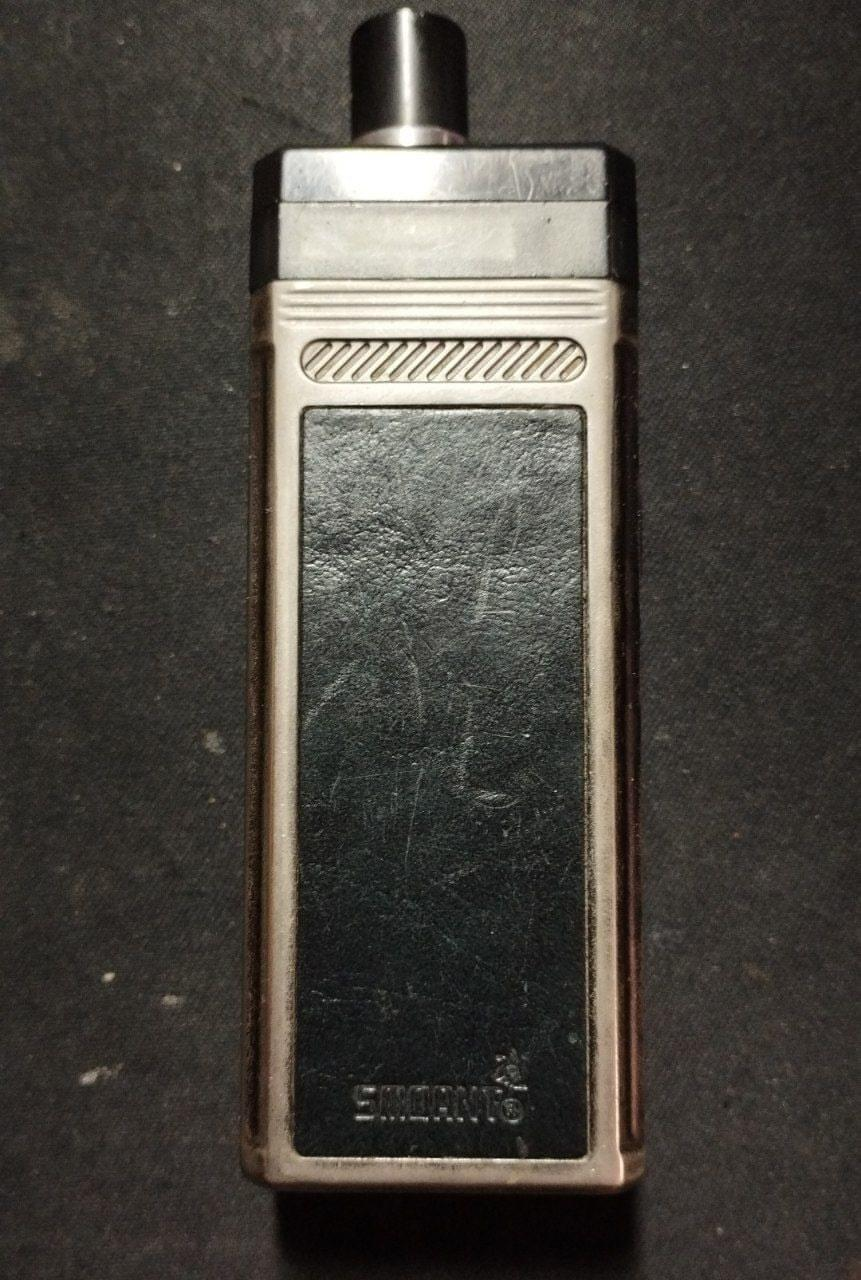Vape: (243, 7, 643, 1192)
